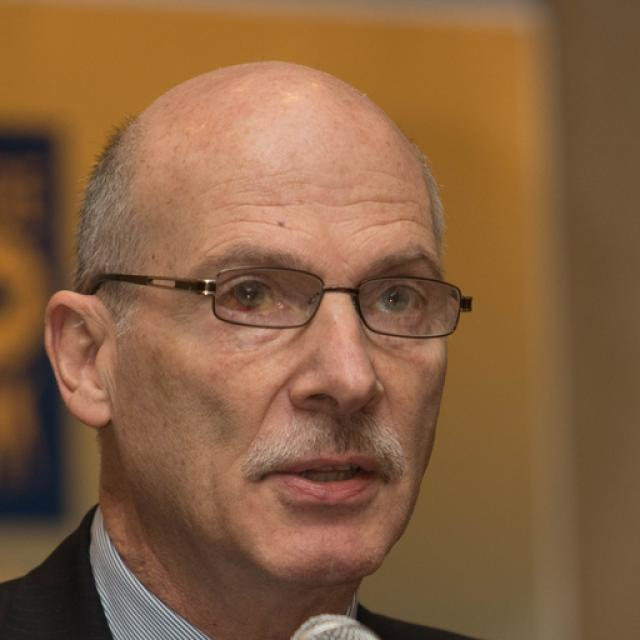Wrinkle: (325, 185, 425, 217), (219, 211, 309, 239), (359, 205, 425, 242), (214, 190, 301, 217)
